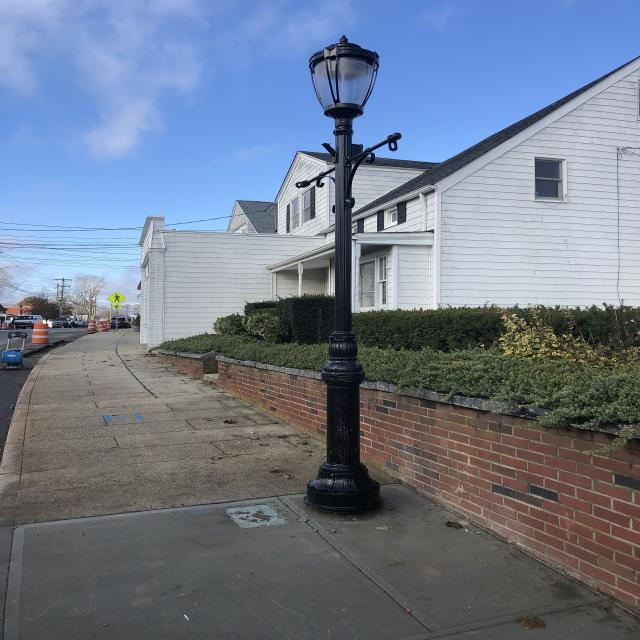Street Light: (303, 36, 389, 520)
